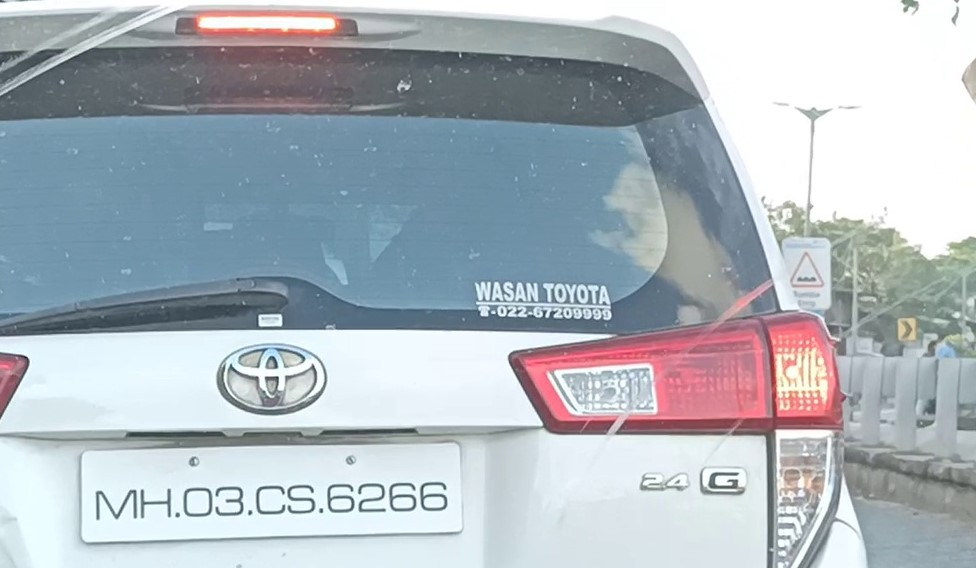MH03CS6266: (79, 438, 465, 545)
